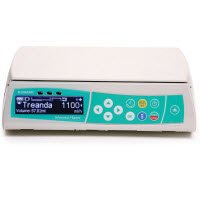BBraun Infusomat Space: (2, 44, 198, 137)
